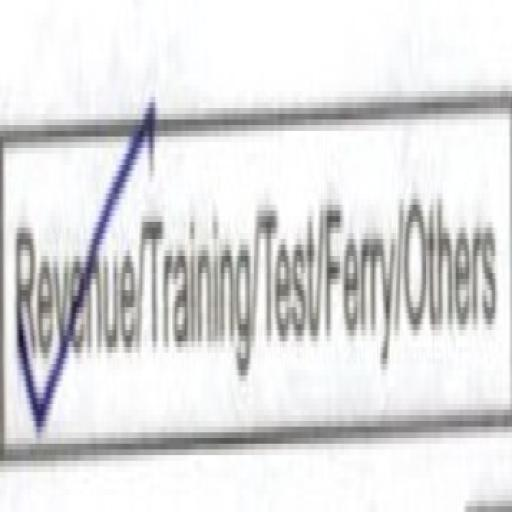check: (0, 44, 136, 496)
